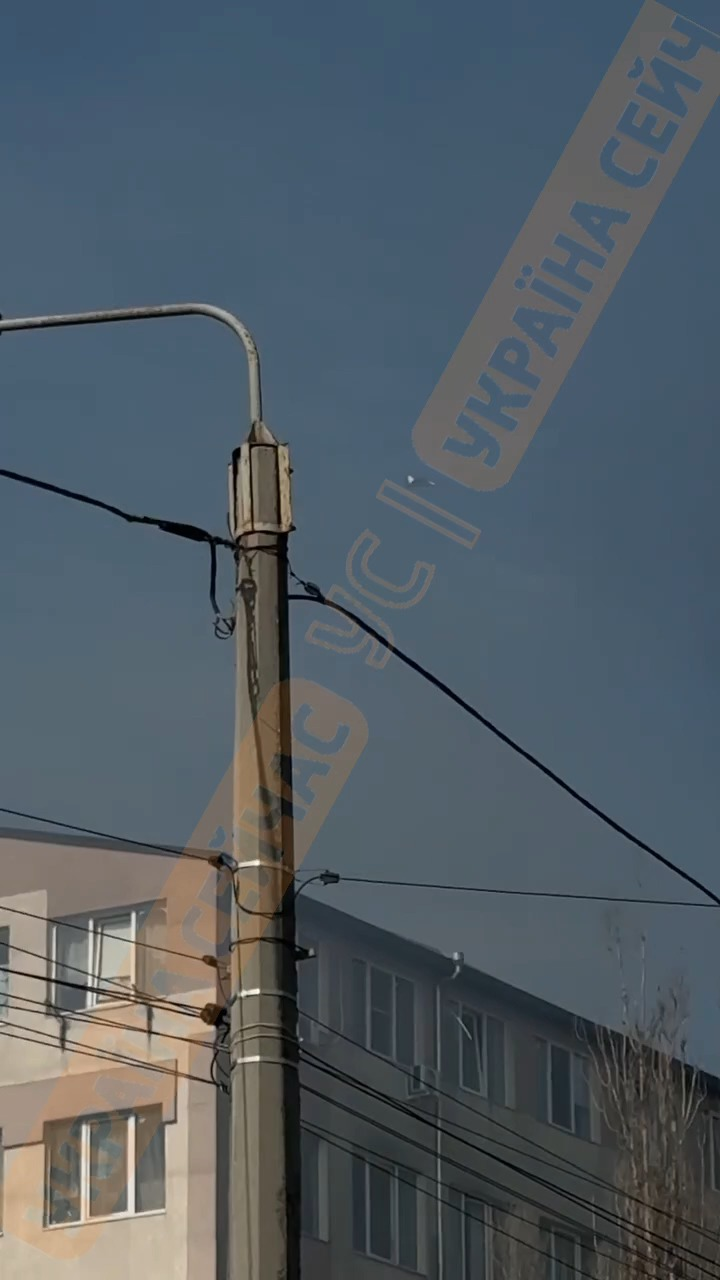shahed: (396, 469, 443, 494)
